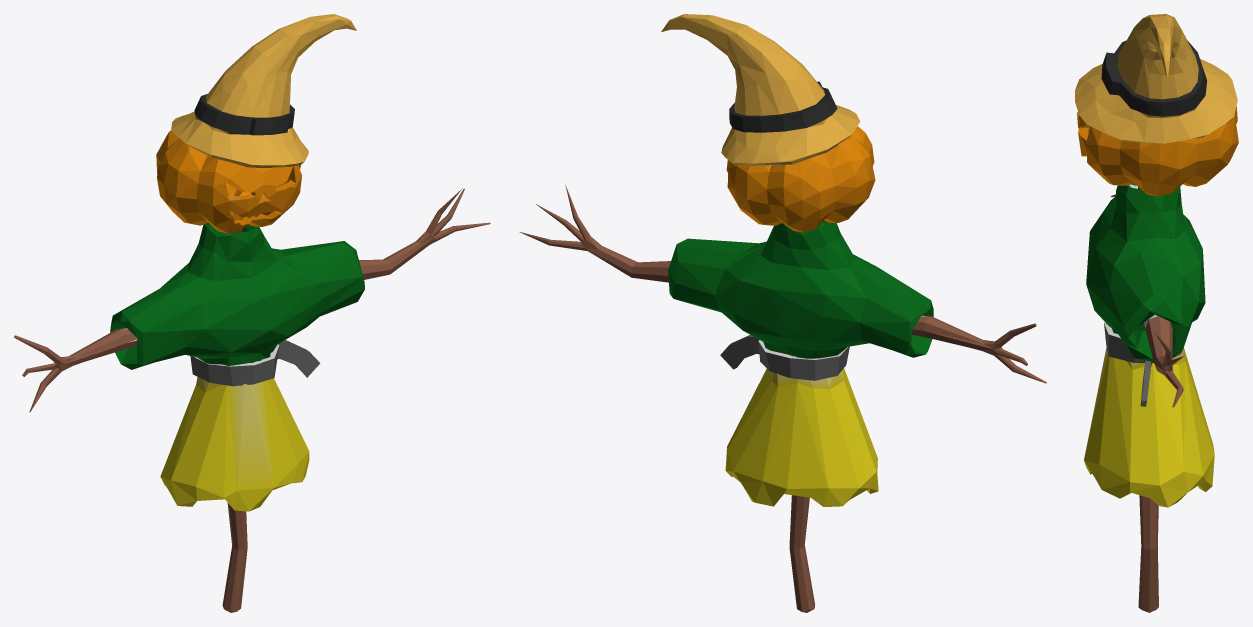
Rendered from scarecrow.fbx.
3 views of the same model, side by side, from view 1: azimuth 30°, elevation 25°; view 2: azimuth 150°, elevation 25°; view 3: azimuth 270°, elevation 25° (orthographic). The views are drawn at different scales.
Visible parts, largest first — view 1: Scarecrow; view 2: Scarecrow; view 3: Scarecrow.
Boxes of the visible parts, x1,y1,x2,y2 form: Scarecrow: (14,14,490,612); Scarecrow: (519,14,1046,612); Scarecrow: (1075,14,1238,612).
Bounding box in the file's own units: 396 × 437 × 103.
